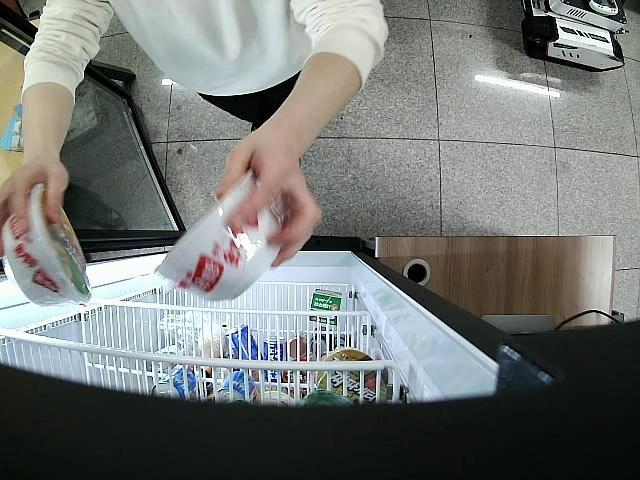09_yukGaeJang: (152, 170, 284, 301), (3, 184, 92, 308)
